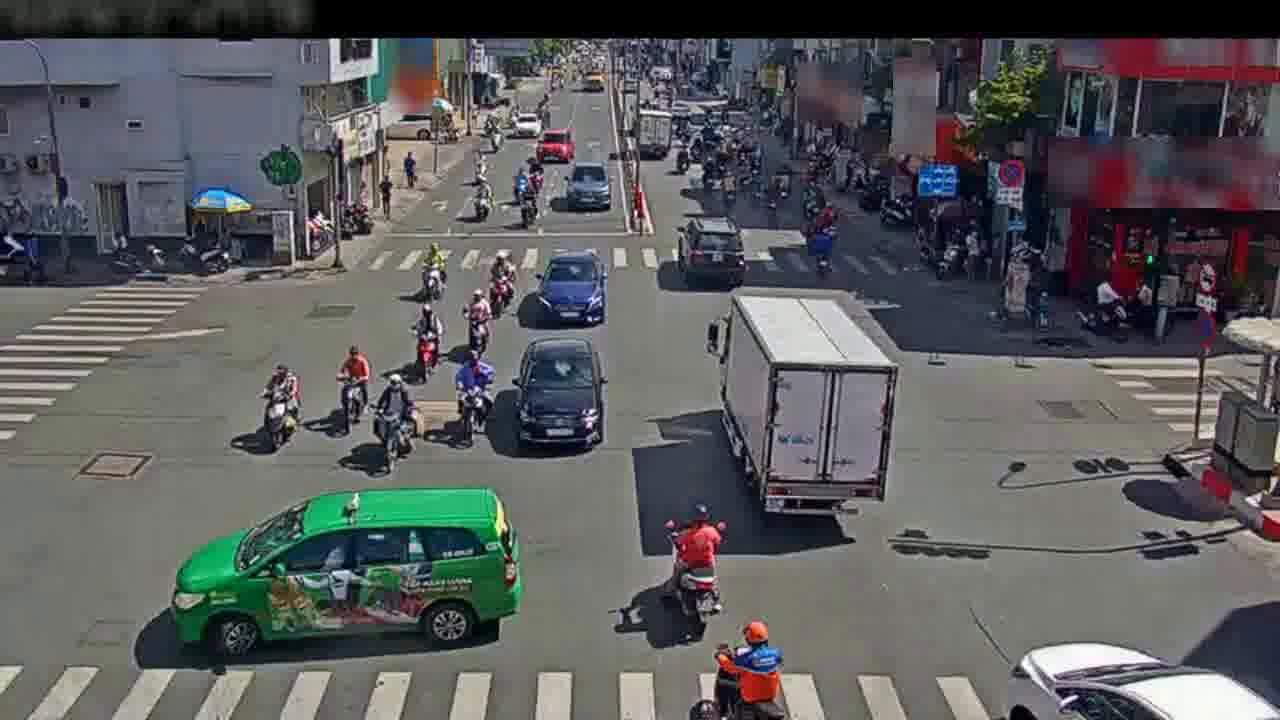8: (711, 285, 896, 525), (628, 103, 674, 166)
container: (166, 487, 517, 652), (1037, 635, 1235, 714), (511, 331, 611, 455), (540, 246, 606, 328), (682, 214, 748, 289), (561, 160, 613, 216), (533, 126, 575, 167), (506, 105, 546, 145)
motorbike: (711, 615, 793, 717), (664, 500, 723, 634), (372, 376, 417, 473), (258, 360, 302, 451), (455, 345, 494, 446), (333, 347, 370, 437), (413, 303, 439, 388), (804, 222, 839, 284), (463, 285, 491, 361), (415, 242, 447, 307), (487, 251, 517, 320), (467, 173, 496, 234), (512, 176, 537, 233), (759, 178, 784, 227), (401, 146, 423, 190), (675, 141, 693, 185)
